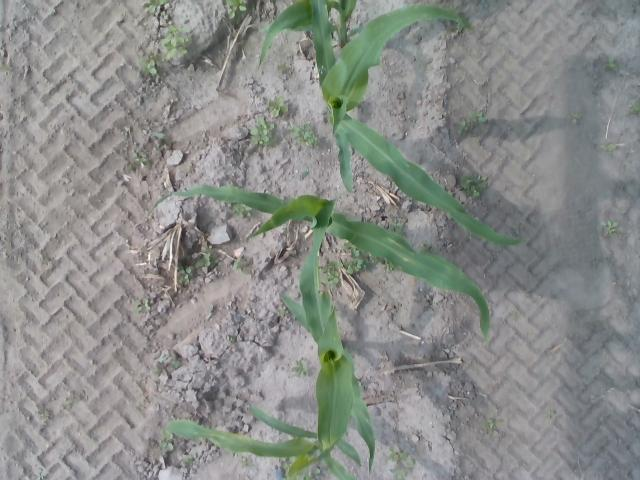Maize: (145, 185, 492, 349), (310, 0, 523, 247), (280, 198, 374, 474), (159, 403, 363, 480), (258, 1, 358, 76)
Weeds: (160, 26, 190, 62), (385, 444, 415, 480), (288, 122, 320, 150), (458, 170, 490, 198), (146, 353, 181, 378), (457, 108, 488, 136), (250, 116, 278, 145), (319, 258, 344, 287), (137, 52, 161, 76), (127, 150, 152, 172), (194, 249, 218, 271), (268, 94, 289, 118), (343, 259, 368, 276), (226, 0, 248, 19), (289, 360, 311, 378), (484, 416, 506, 434), (141, 0, 167, 15), (231, 255, 251, 274), (177, 262, 194, 284), (160, 430, 177, 452), (600, 220, 622, 236), (342, 242, 362, 259), (134, 298, 152, 315), (388, 216, 404, 234), (232, 203, 251, 218), (156, 130, 172, 147), (300, 468, 322, 480), (36, 404, 52, 420), (64, 396, 85, 408), (180, 455, 200, 466), (602, 56, 616, 70), (512, 308, 524, 324), (384, 260, 396, 274), (240, 454, 251, 469), (588, 321, 602, 332), (206, 303, 214, 322), (224, 334, 239, 344), (600, 145, 618, 153), (544, 410, 556, 420), (278, 305, 287, 318), (630, 103, 639, 116), (514, 222, 522, 236), (421, 242, 431, 253), (572, 113, 582, 124), (276, 62, 289, 70), (300, 170, 310, 180), (0, 65, 14, 72), (525, 288, 533, 298), (592, 258, 600, 268), (282, 462, 290, 469), (124, 126, 133, 132)
